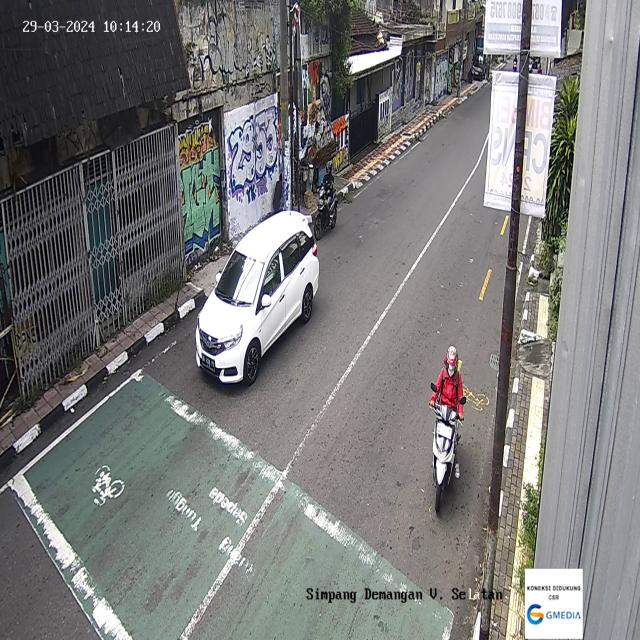car: (194, 209, 320, 387)
motorcycle: (429, 346, 466, 514), (314, 158, 338, 240)
